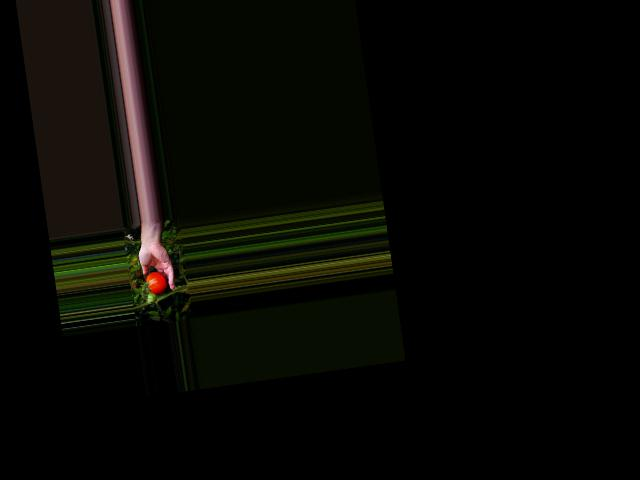tomato: (145, 270, 168, 296)
